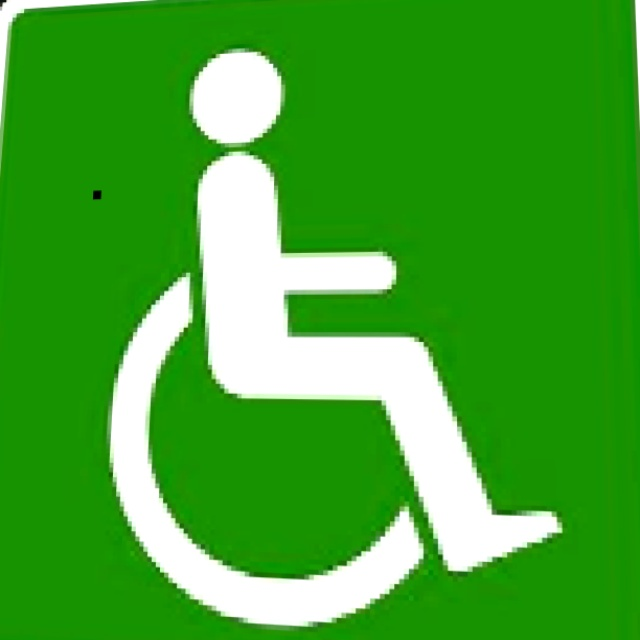ISA: (96, 29, 565, 640)
